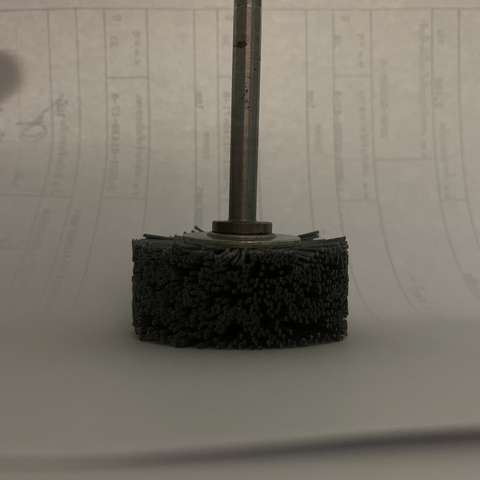Wheel Brush: (115, 5, 406, 368), (132, 17, 357, 357), (147, 28, 369, 345), (128, 79, 358, 361)
